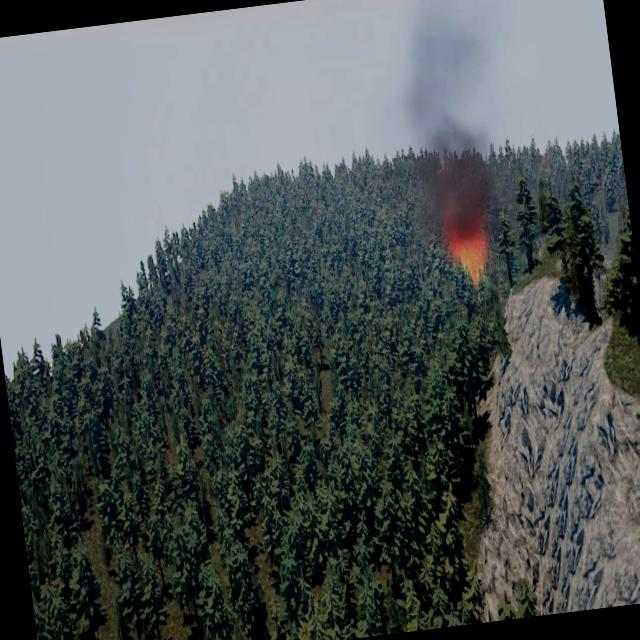fire: (445, 224, 493, 295)
smoke: (377, 7, 513, 268)
